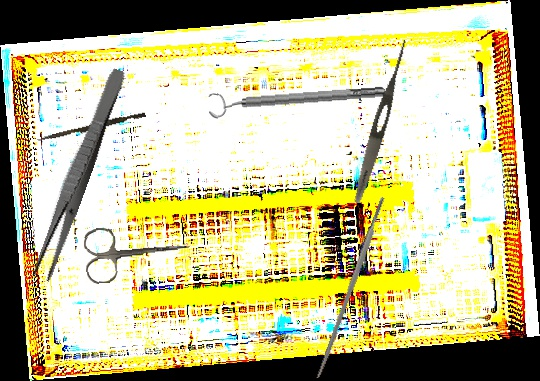Dressing Forceps: (29, 65, 128, 283), (349, 38, 412, 205)
Fixation Ring: (207, 78, 386, 120)
Iris Scissors: (82, 220, 193, 285)
Pusher: (36, 109, 147, 146)
Scalpel Handle: (314, 196, 388, 380)
